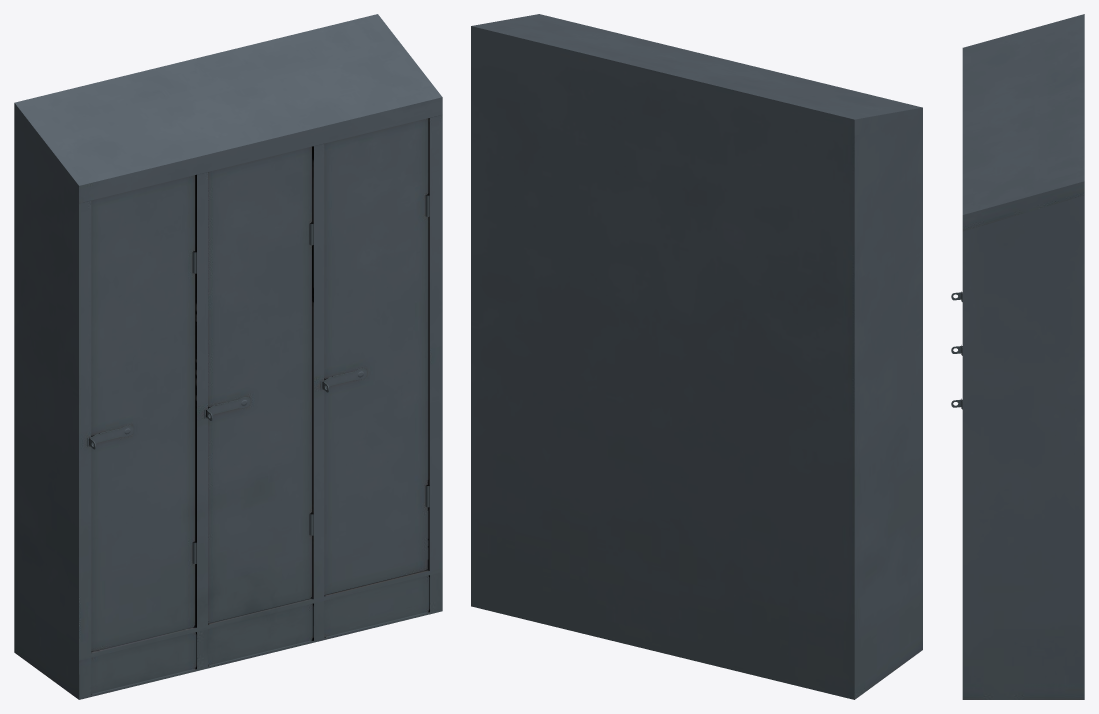
The model's file is locker.glb.
3 renders of one model, left to right at view 1: azimuth 30°, elevation 25°; view 2: azimuth 150°, elevation 25°; view 3: azimuth 270°, elevation 25°, orthographic. The views are drawn at different scales.
Visible parts, largest first — view 1: polySurface13; view 2: polySurface13; view 3: polySurface13.
Part boxes in pixels (left/top/right/bottom): polySurface13: left=14, top=14, right=442, bottom=699; polySurface13: left=471, top=14, right=922, bottom=699; polySurface13: left=951, top=14, right=1084, bottom=699.
Bounding box in the file's own units: 1.45 × 2.1 × 0.4892.
Materials: 1 (1 with a texture image).
